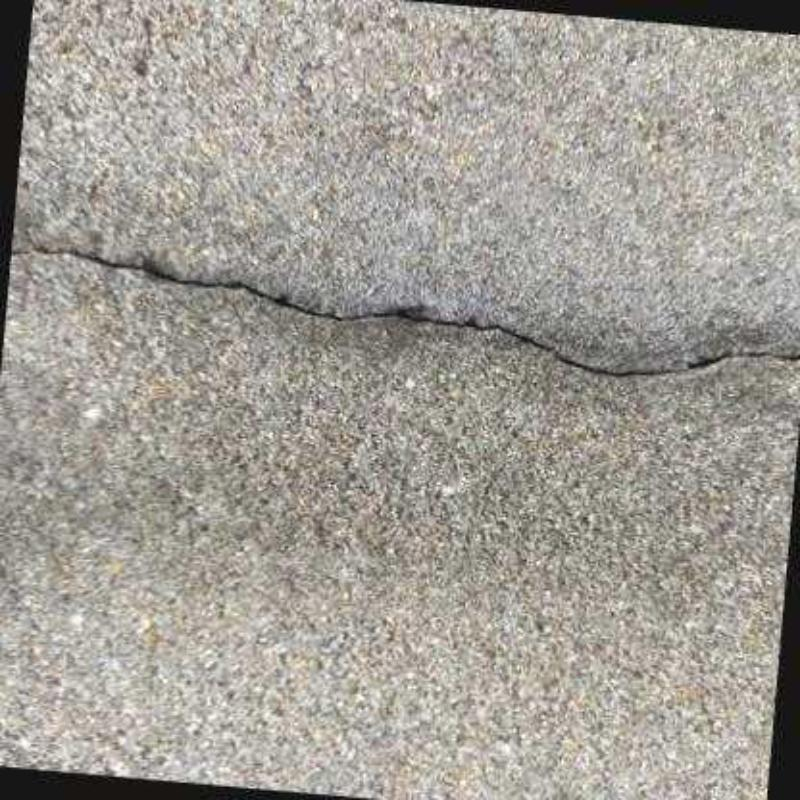pothole: (11, 244, 800, 378)
